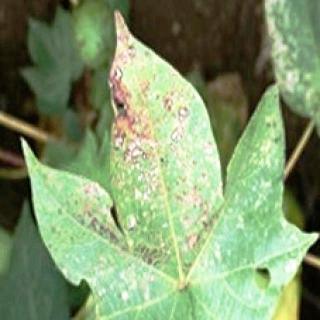grey mildew: (20, 14, 319, 292)
